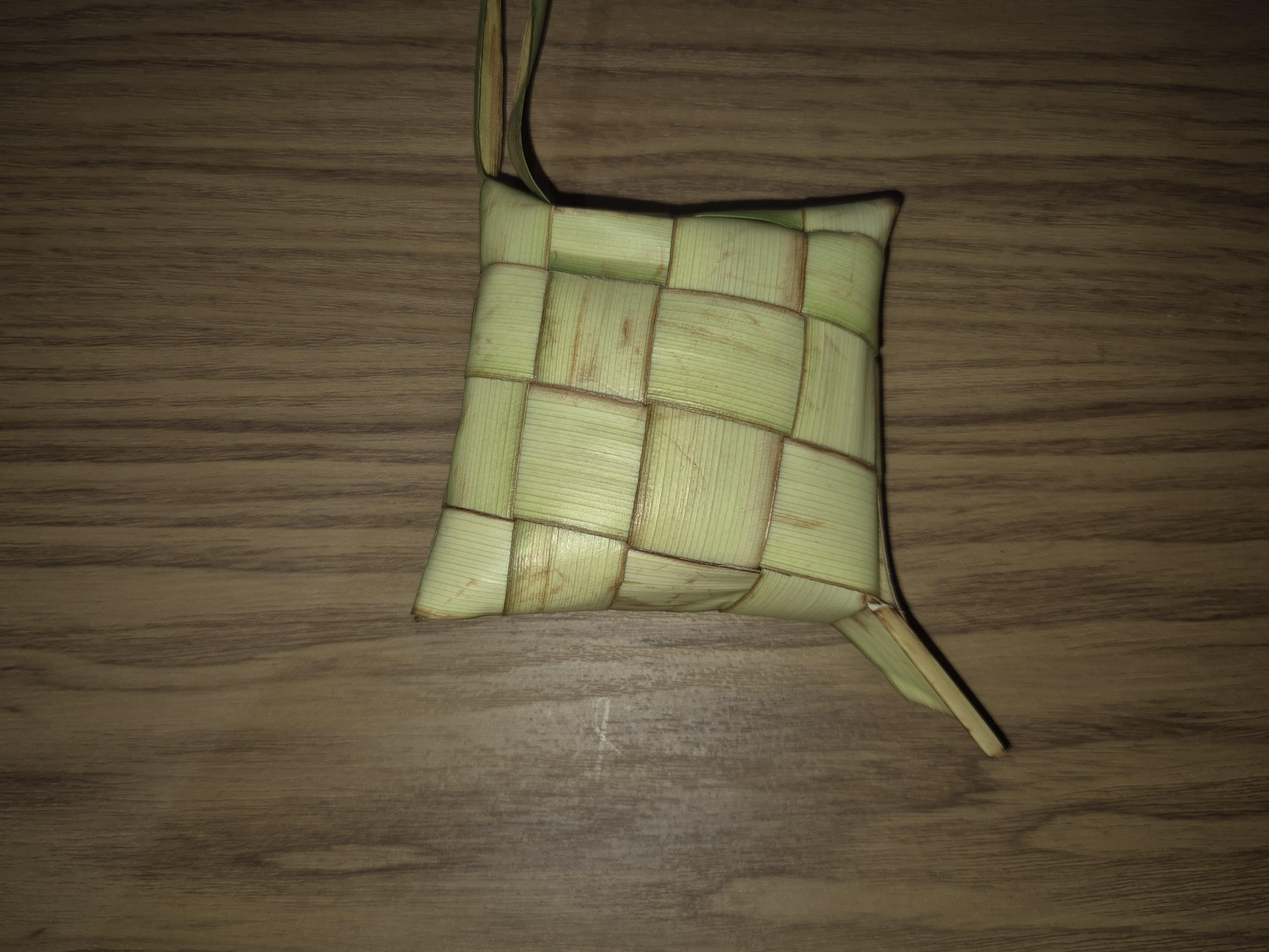Tipat Nasi: (439, 311, 1027, 671)
